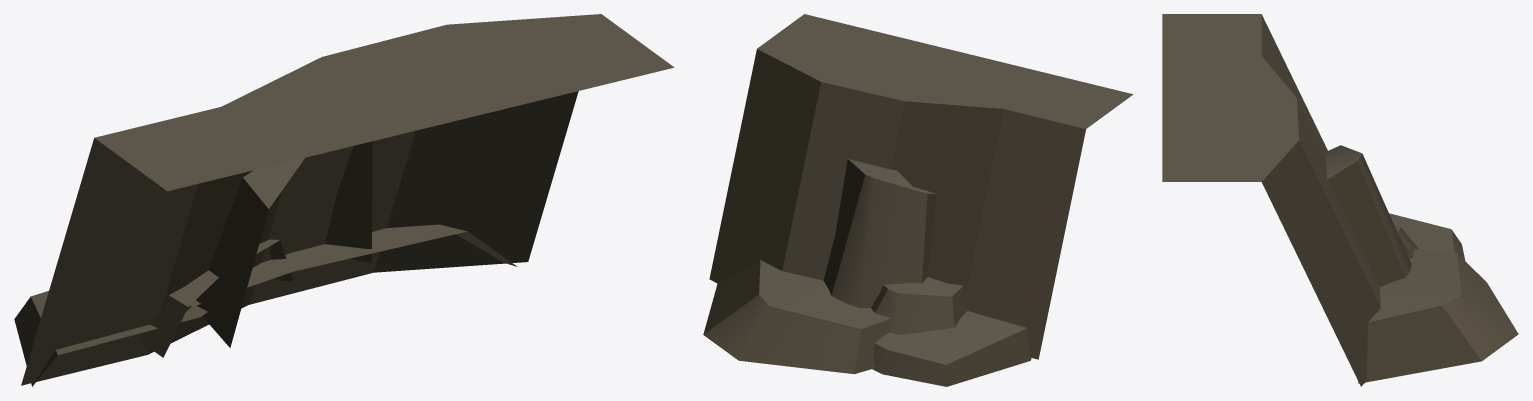
The model's file is SF_Env_RockEdge_Straight_05.fbx.
3 views of the same model, side by side, from view 1: azimuth 30°, elevation 25°; view 2: azimuth 150°, elevation 25°; view 3: azimuth 270°, elevation 25° (orthographic). The views are drawn at different scales.
Visible parts, largest first — view 1: SF_Env_RockEdge_Straight_05; view 2: SF_Env_RockEdge_Straight_05; view 3: SF_Env_RockEdge_Straight_05.
Boxes of the visible parts, x1,y1,x2,y2 form: SF_Env_RockEdge_Straight_05: [14, 14, 674, 386]; SF_Env_RockEdge_Straight_05: [703, 14, 1133, 386]; SF_Env_RockEdge_Straight_05: [1162, 14, 1518, 386].
Bounding box in the file's own units: 10 × 5.76 × 8.96.
